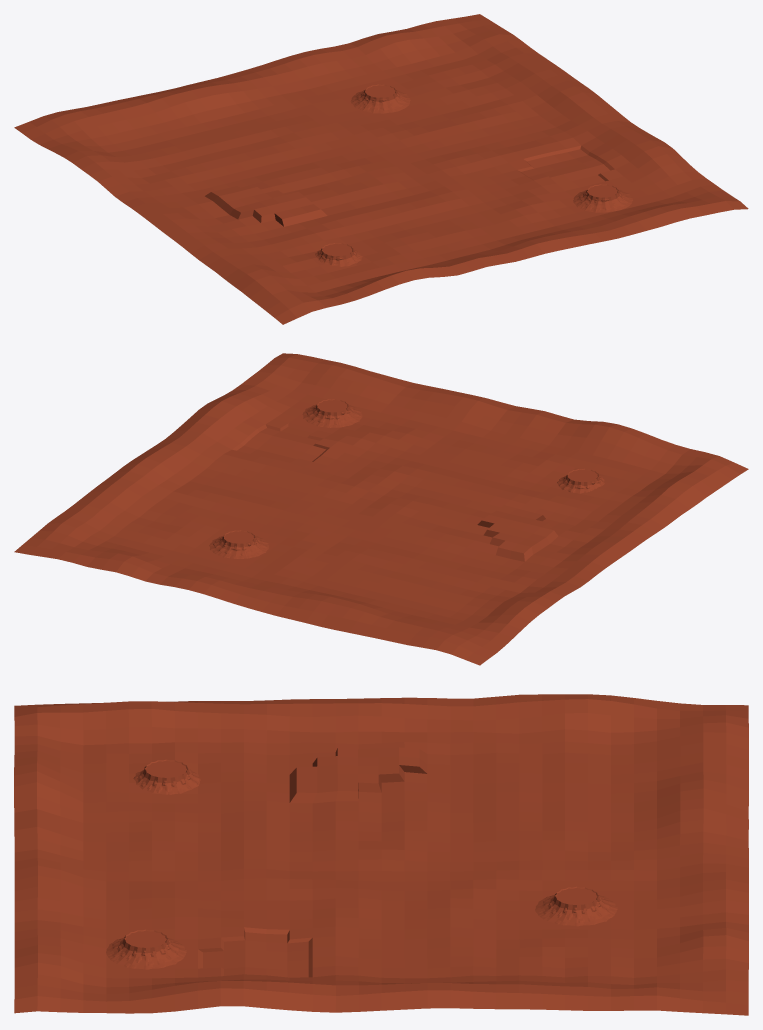
File: Mars_env.fbx
The picture shows the model from 3 angles, top to bottom: view 1: azimuth 30°, elevation 25°; view 2: azimuth 150°, elevation 25°; view 3: azimuth 270°, elevation 25°; orthographic projection. The views are drawn at different scales.
Parts seen in each view (by area): view 1: Plane.001; view 2: Plane.001; view 3: Plane.001.
Boxes of the visible parts, x1=… form: Plane.001: x1=14, y1=14, x2=748, y2=324; Plane.001: x1=14, y1=353, x2=748, y2=665; Plane.001: x1=14, y1=694, x2=748, y2=1015.
Bounding box in the file's own units: 7.03 × 0.2845 × 7.02.
